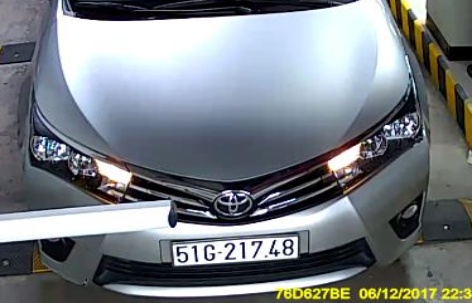plate: (159, 232, 302, 265)
